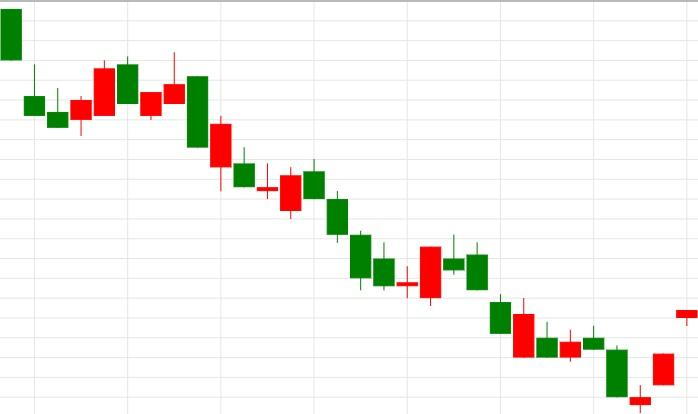morning_star_rise: (303, 158, 442, 306)
